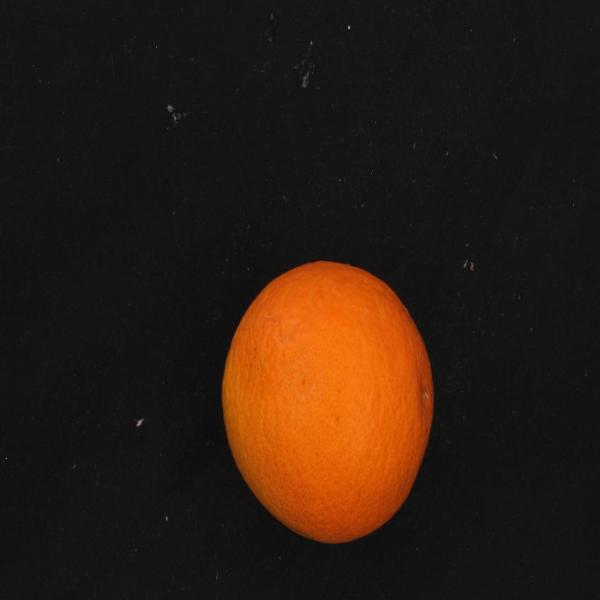Sana: (214, 245, 446, 550)
